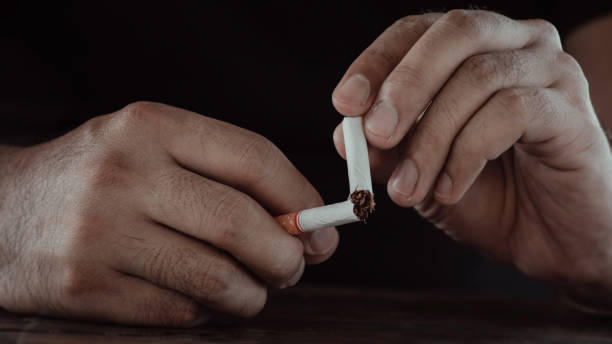cigarette: (273, 199, 369, 236), (343, 116, 375, 211)
